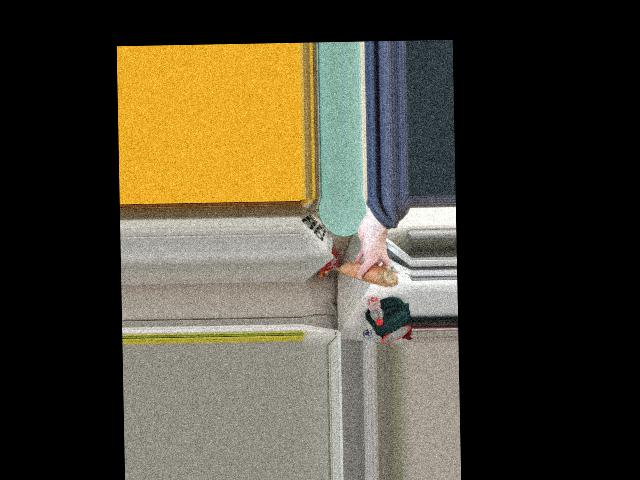sweet_potato: (334, 264, 397, 284)
